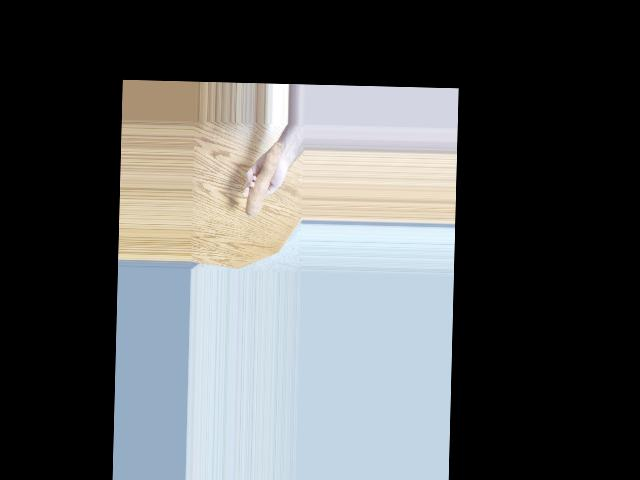sweet_potato: (244, 140, 284, 218)
